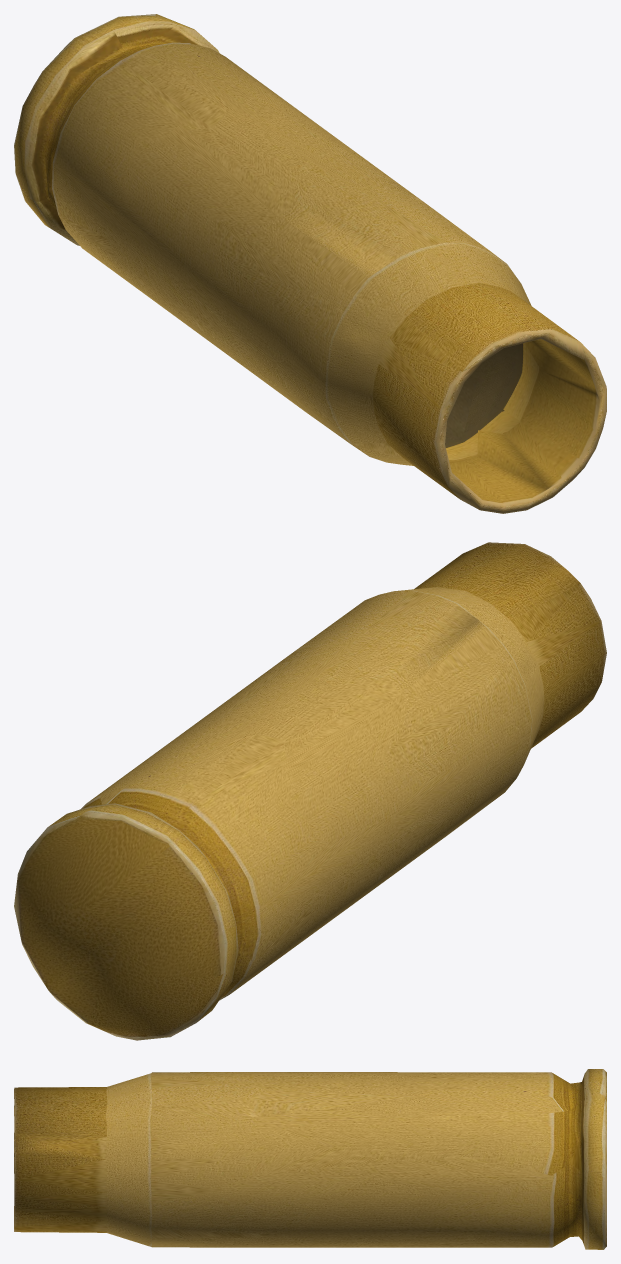
The model's file is bullet_casing.glb.
3 renders of one model, top to bottom at view 1: azimuth 30°, elevation 25°; view 2: azimuth 150°, elevation 25°; view 3: azimuth 270°, elevation 25°, orthographic. The views are drawn at different scales.
Parts seen in each view (by area): view 1: shell; view 2: shell; view 3: shell.
Boxes of the visible parts, x1,y1,x2,y2 form: shell: (14,14,606,513); shell: (14,542,606,1040); shell: (14,1069,606,1249).
Size of the model in its own units: 0.015 by 0.0151 by 0.0494.
Materials: 1 (1 with a texture image).
